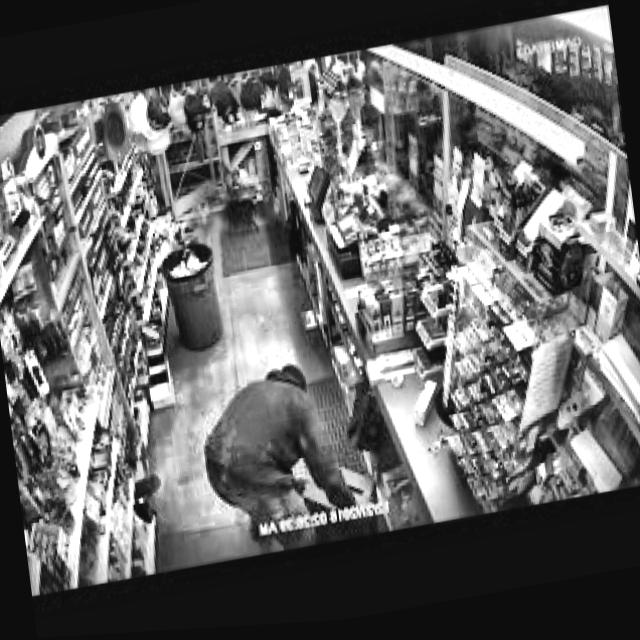burglary: (184, 341, 406, 564)
